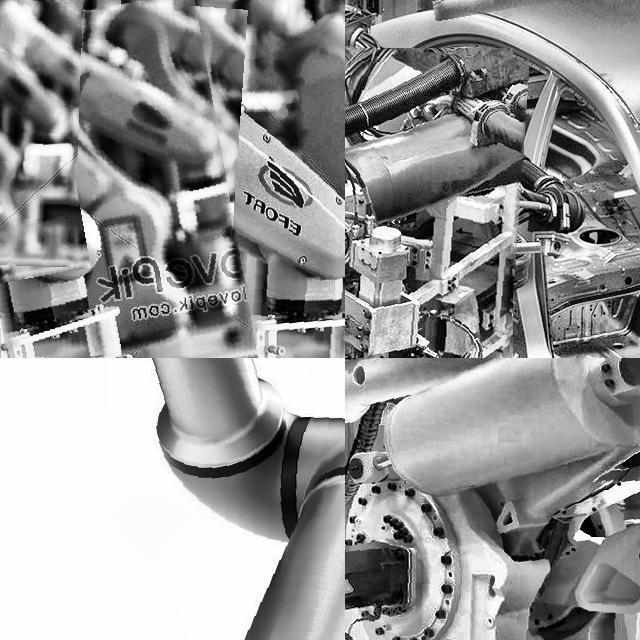robot: (0, 358, 345, 640), (0, 1, 243, 358), (110, 0, 345, 358), (345, 358, 640, 640), (345, 43, 521, 358), (0, 0, 81, 265)
